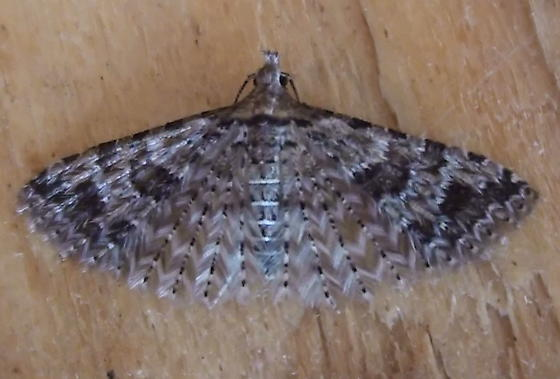Alucitidae: (14, 53, 537, 316)
moth: (12, 51, 535, 314)
